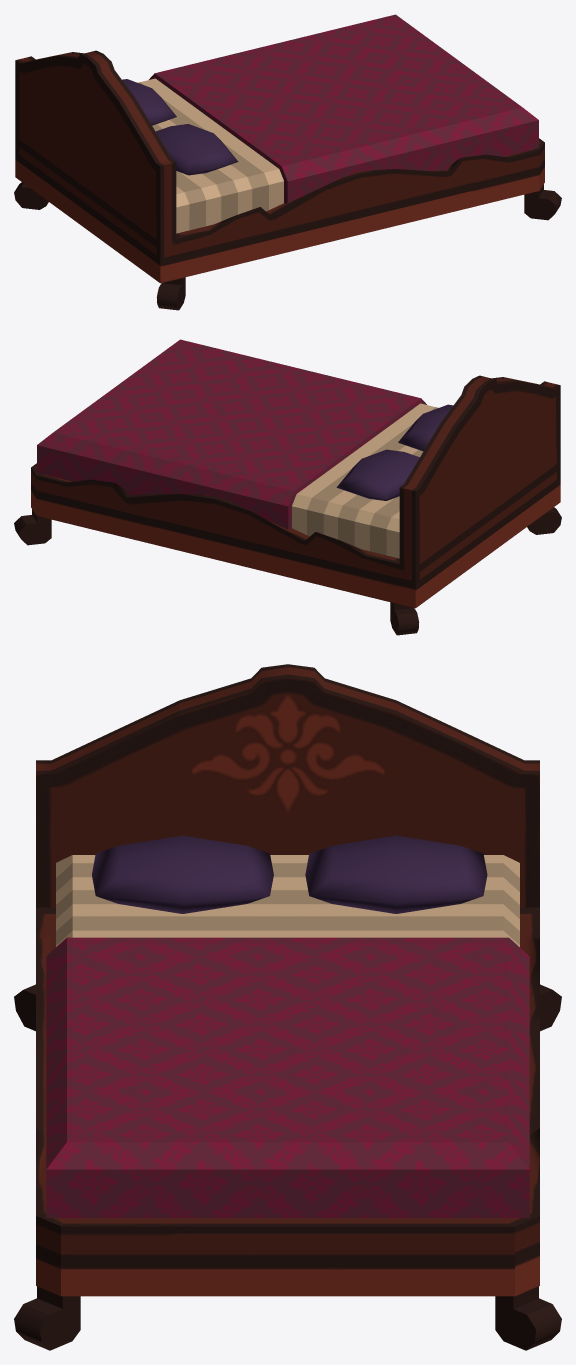
Rendered from VicBed.fbx.
The picture shows the model from 3 angles, top to bottom: view 1: azimuth 30°, elevation 25°; view 2: azimuth 150°, elevation 25°; view 3: azimuth 270°, elevation 25°; orthographic projection. The views are drawn at different scales.
Visible parts, largest first — view 1: VicBed; view 2: VicBed; view 3: VicBed.
Part boxes in pixels (bbox=[...]): VicBed: bbox=[14, 14, 561, 310]; VicBed: bbox=[14, 339, 561, 635]; VicBed: bbox=[14, 664, 561, 1350].
Bounding box in the file's own units: 6.08 × 2.88 × 4.09.
Materials: 1 (1 with a texture image).
